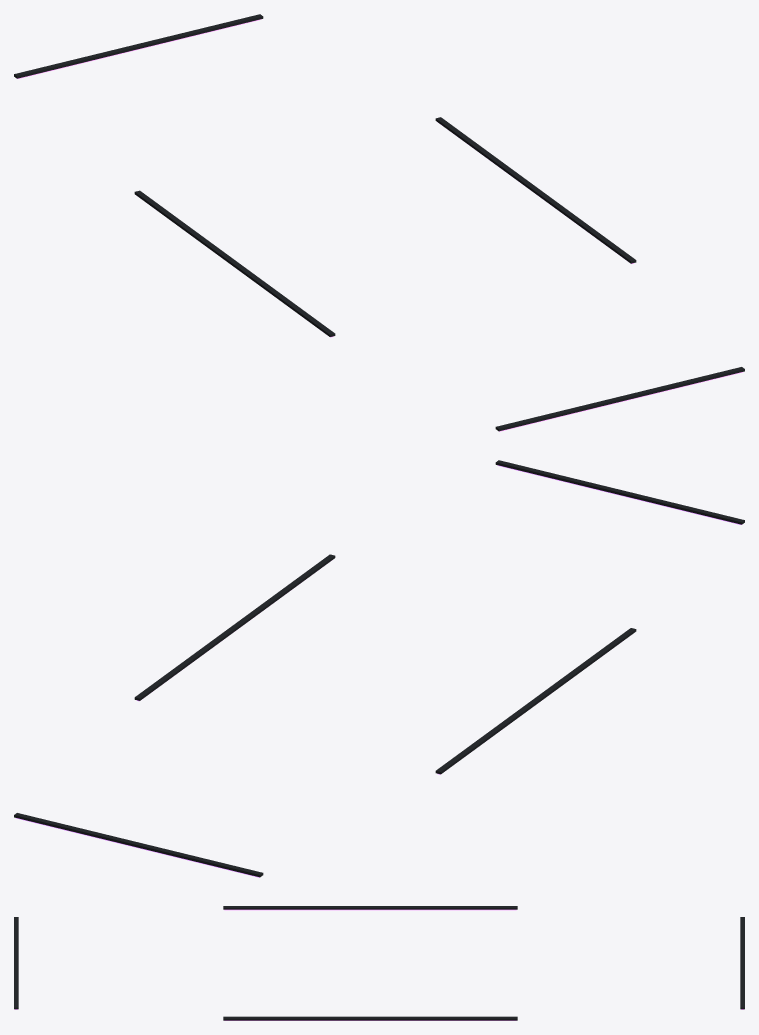
File: ridgeback_4x4.glb
The picture shows the model from 3 angles, top to bottom: view 1: azimuth 30°, elevation 25°; view 2: azimuth 150°, elevation 25°; view 3: azimuth 270°, elevation 25°; orthographic projection. The views are drawn at different scales.
Parts seen in each view (by area): view 1: model; view 2: model; view 3: model.
Boxes of the visible parts, x1,y1,x2,y2 form: model: (14, 14, 744, 431); model: (14, 460, 744, 877); model: (14, 906, 744, 1020).
Size of the model in its own units: 1.61 by 0.0178 by 4.41.
Materials: 2 (1 with a texture image).
